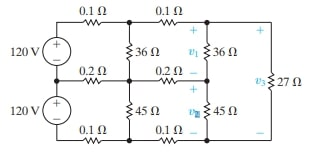dc: (40, 94, 73, 128), (39, 35, 75, 66)
resistor: (77, 16, 107, 29), (121, 40, 137, 63), (200, 40, 213, 67), (157, 17, 183, 30), (200, 99, 213, 125), (79, 76, 107, 88), (80, 135, 106, 147), (265, 70, 277, 96), (123, 100, 136, 123), (157, 135, 183, 146), (157, 75, 180, 87)
